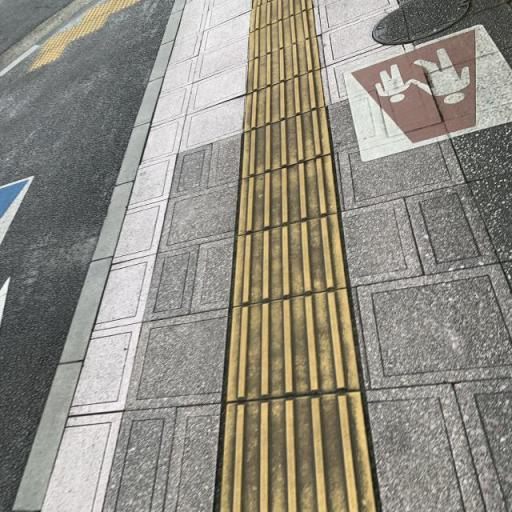line: (215, 392, 375, 511), (225, 291, 362, 400), (232, 213, 348, 306), (237, 155, 341, 234), (243, 108, 333, 179), (241, 68, 326, 133), (245, 36, 321, 94), (248, 8, 315, 60)
